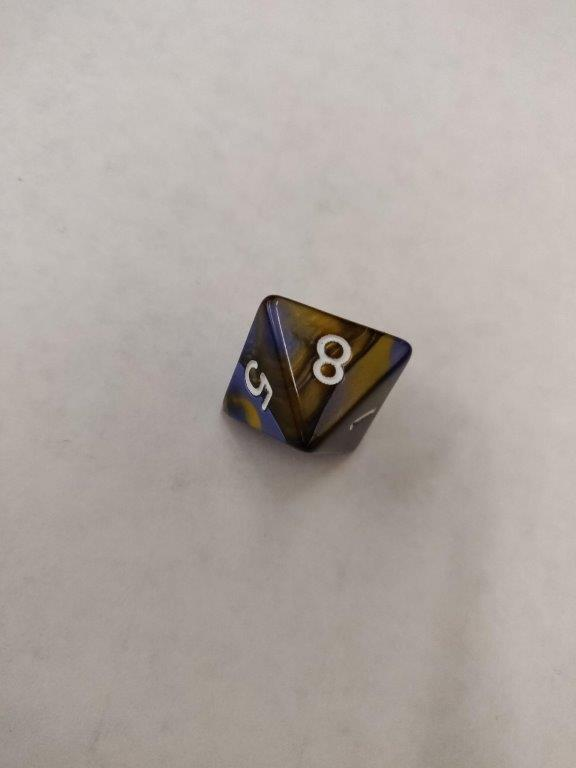d8-8: (218, 293, 417, 464)
